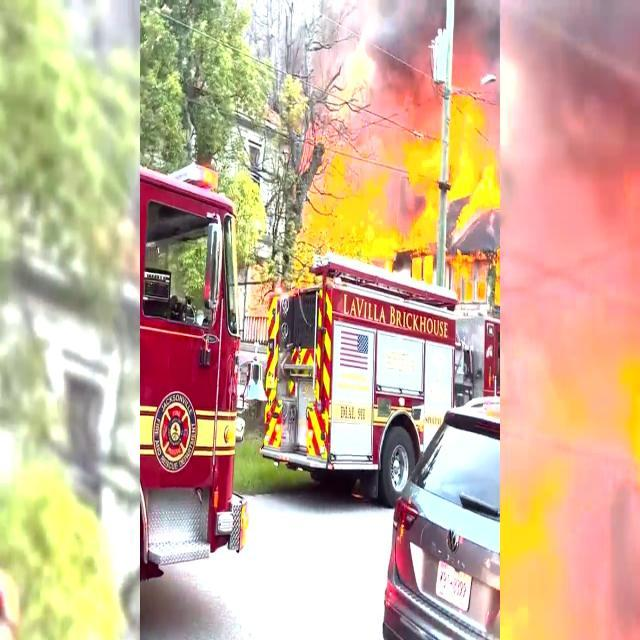Fire: (408, 116, 512, 211), (312, 155, 392, 269)
Smoke: (369, 8, 528, 96)
